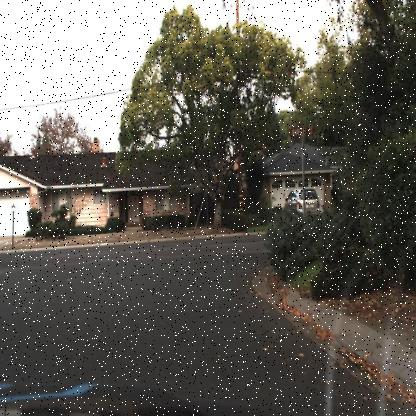car: (283, 188, 321, 218)
